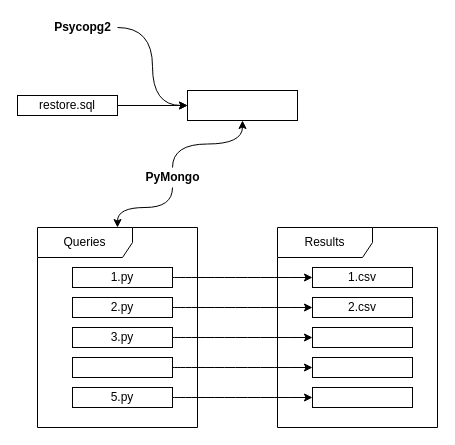
Image size: 455x445. Some labels were removed from this diagram. Here are the shapes that lost their labels. From the top down, the centre of each, then its label:
At [242,105]: "migration.py".
At [362,337]: "3.csv".
At [122,367]: "4.py".
At [362,367]: "4.csv".
At [362,397]: "5.csv".
